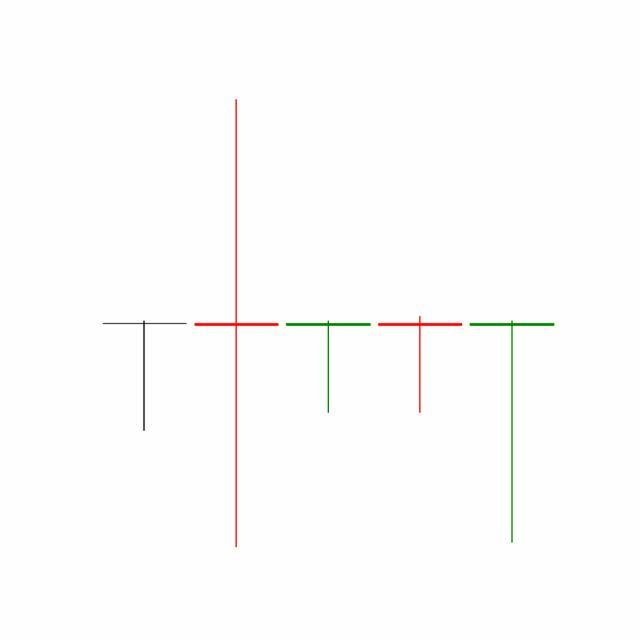Dragonfly Doji: (466, 319, 559, 546)
